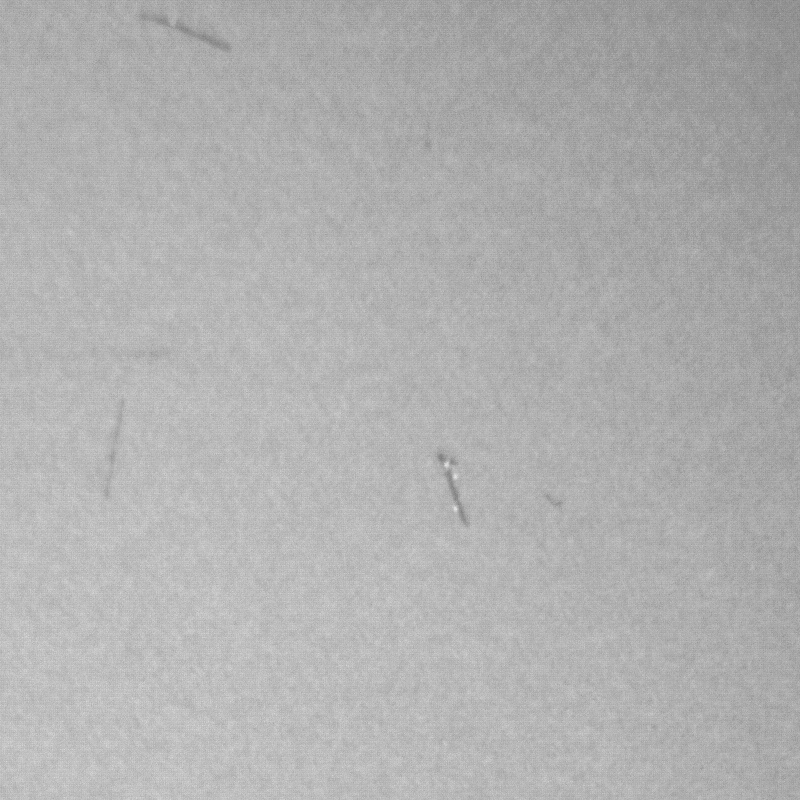defect: (135, 9, 240, 57), (431, 448, 479, 533), (104, 404, 121, 498), (539, 489, 571, 523)
